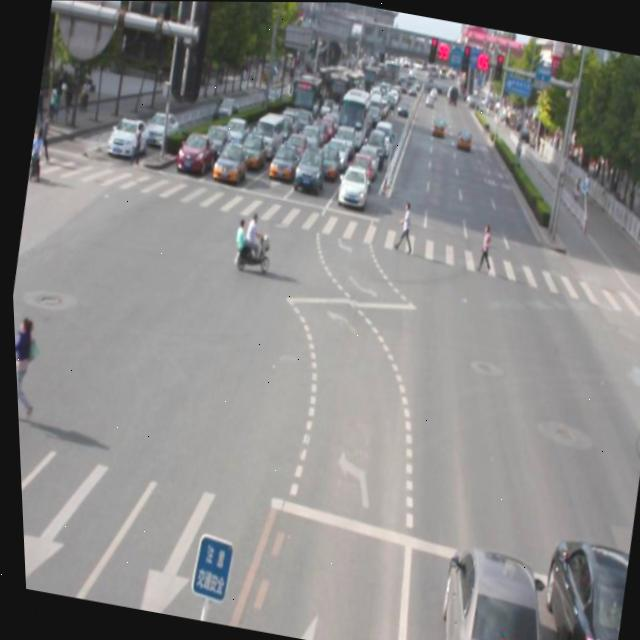car: (423, 538, 553, 640), (520, 533, 627, 640)
